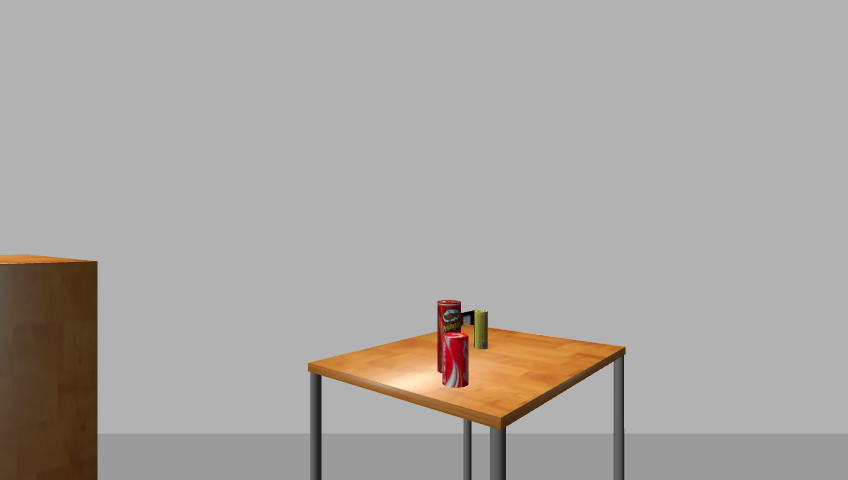aruco marker: (449, 308, 480, 349)
biscuits pack: (473, 310, 490, 351)
bookshelf: (0, 253, 105, 480)
coke can: (442, 334, 470, 388)
dinner table: (299, 328, 634, 480)
pringles can: (434, 300, 462, 382)
